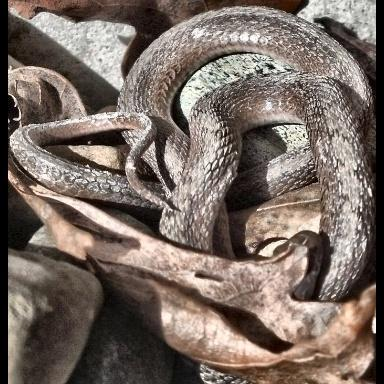snake: (11, 10, 374, 302)
